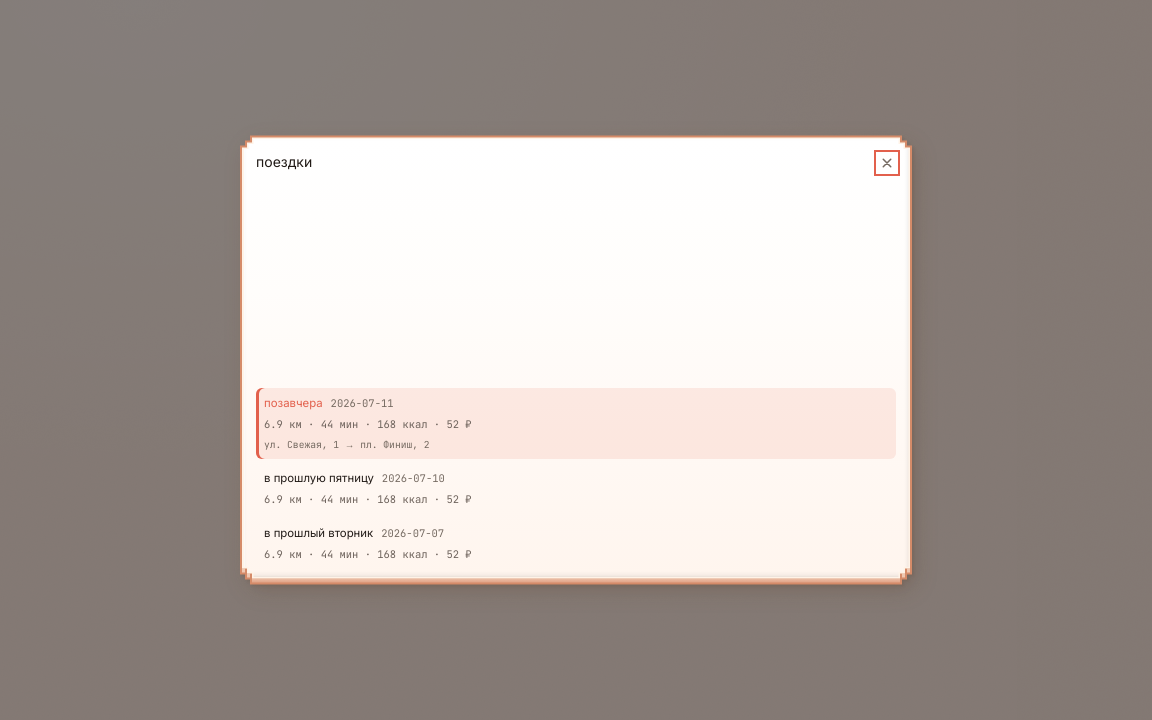
Test: RidesModal — map of the selected ride › a ride without coordinates — a placeholder instead of the map
Click the button that starts with "в прошлый вторник". click: (319, 533)
box: [256,518,896,569]
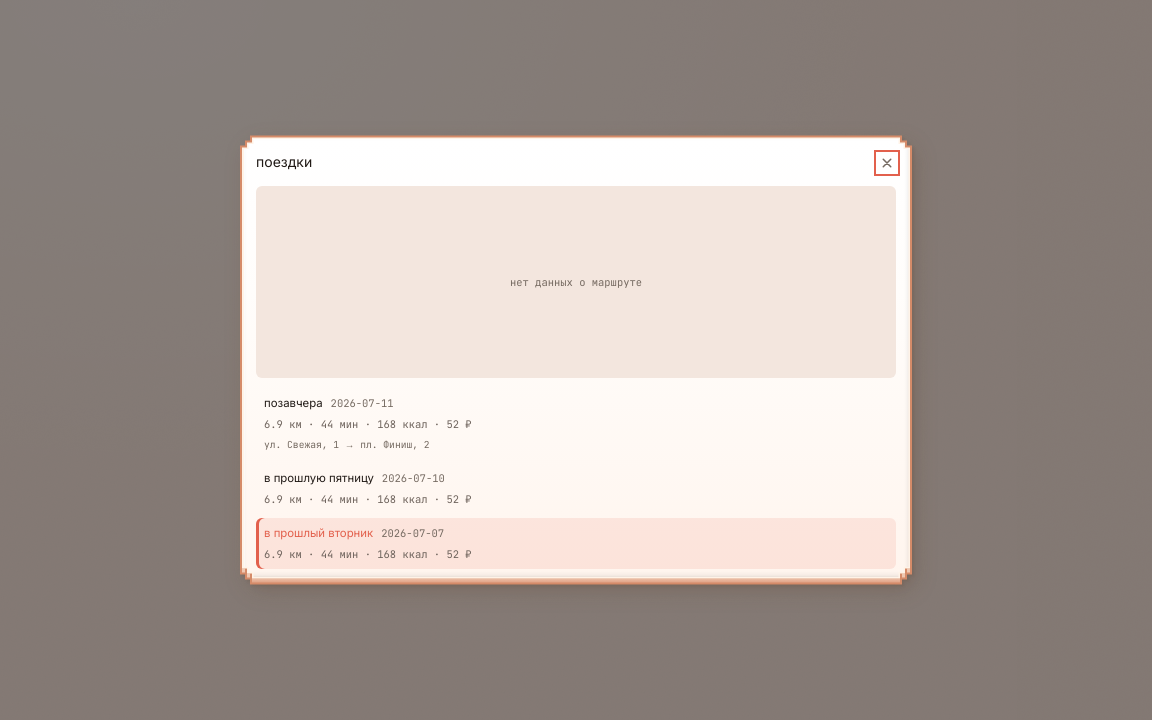
expect the element with test id "ride-map" is gone: met
expect the text "нет данных о маршруте" is shown: met, box [256,186,896,378]
